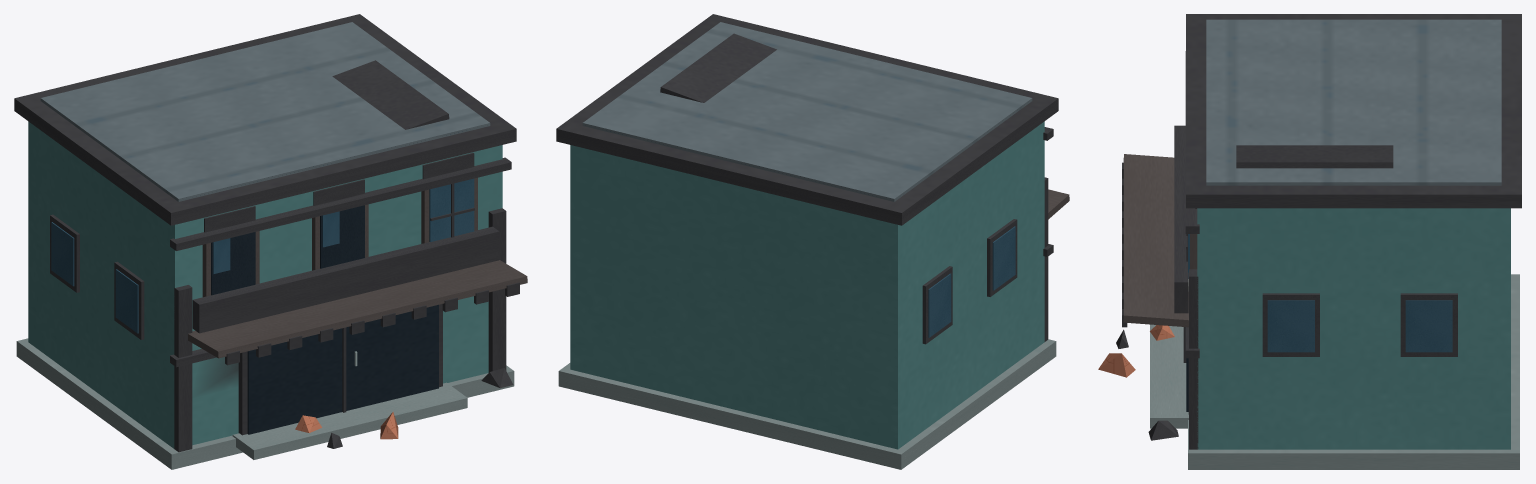
The model's file is corner-store-burning-lod.glb.
The picture shows the model from 3 angles, left to right: view 1: azimuth 30°, elevation 25°; view 2: azimuth 150°, elevation 25°; view 3: azimuth 270°, elevation 25°; orthographic projection. The views are drawn at different scales.
Parts seen in each view (by area): view 1: corner-store-burning-lod; view 2: corner-store-burning-lod; view 3: corner-store-burning-lod.
Boxes of the visible parts, x1=… form: corner-store-burning-lod: x1=14, y1=14, x2=527, y2=469; corner-store-burning-lod: x1=556, y1=14, x2=1069, y2=469; corner-store-burning-lod: x1=1098, y1=14, x2=1521, y2=469.
Size of the model in its own units: 6.54 by 4.82 by 6.49.
Materials: 4 (4 with a texture image).
